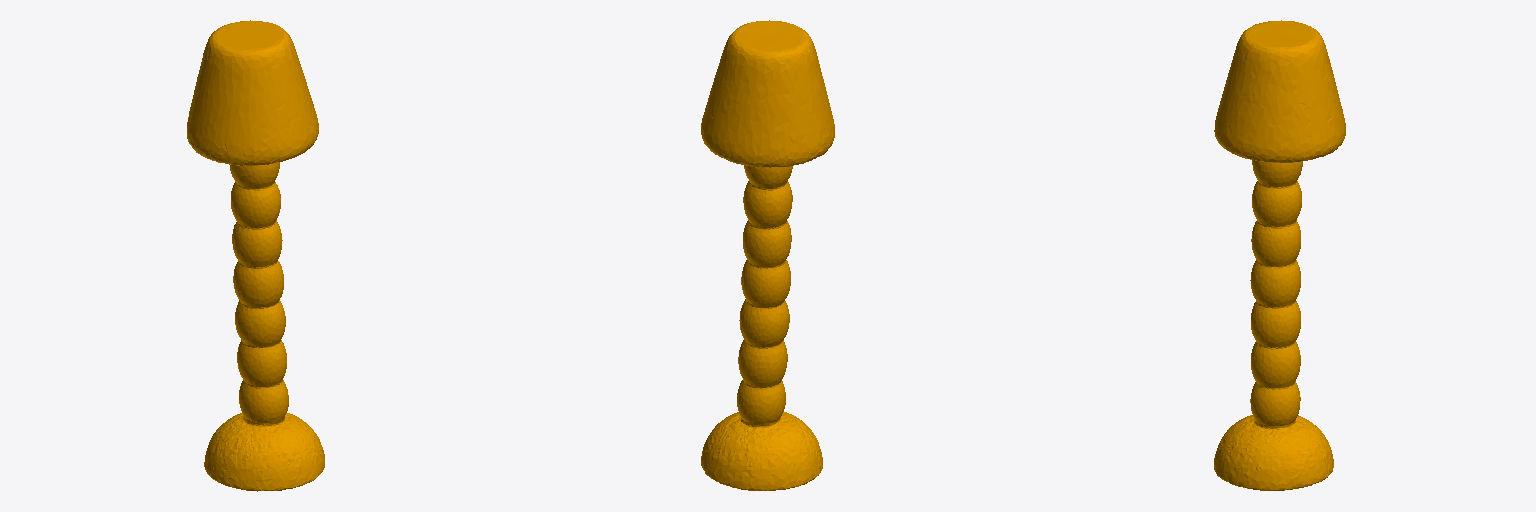
URDF robot description (3D_Dollhouse_Lamp):

<robot name="3D_Dollhouse_Lamp">
    <link name="base">
        <inertial>
            <origin xyz="-9.929076446693492e-19 9.929076446693493e-20 -5.0836871407070687e-17" />
            <mass value="8.886284554864667e-05" />
            <inertia ixx="2.9807384548832836e-07" ixy="1.608794342600217e-10" 
                     ixz="8.585374836987562e-09" iyy="2.98212999411323e-07" 
                     iyz="-5.050269382092916e-09" izz="1.4388478897282012e-08" />
        </inertial>
        <visual>
            <origin xyz="0 0 0" />
            <geometry>
                <mesh filename="visual_geometry.obj" />
            </geometry>
        </visual>
        <collision>
            <origin xyz="0 0 0" />
            <geometry>
                <mesh filename="collision_geometry.obj" />
            </geometry>
        </collision>
    </link>
</robot>

--- Render facts (derived) ---
3 views of the same robot in one strip: view 1: azimuth 30°, elevation 25°; view 2: azimuth 150°, elevation 25°; view 3: azimuth 270°, elevation 25° (orthographic).
Robot: 3D_Dollhouse_Lamp — 1 links, 0 joints (none); root link base; default pose: every joint at zero.
Links seen in each view (by area): view 1: base; view 2: base; view 3: base.
Boxes of the visible links, bbox=[...] form: base: bbox=[187, 20, 324, 491]; base: bbox=[701, 20, 834, 490]; base: bbox=[1214, 20, 1345, 490].
Size in the robot's own frame: 0.048 by 0.0466 by 0.1668 metres.
1 mesh visuals loaded from 1 distinct referenced files (1 OBJ).